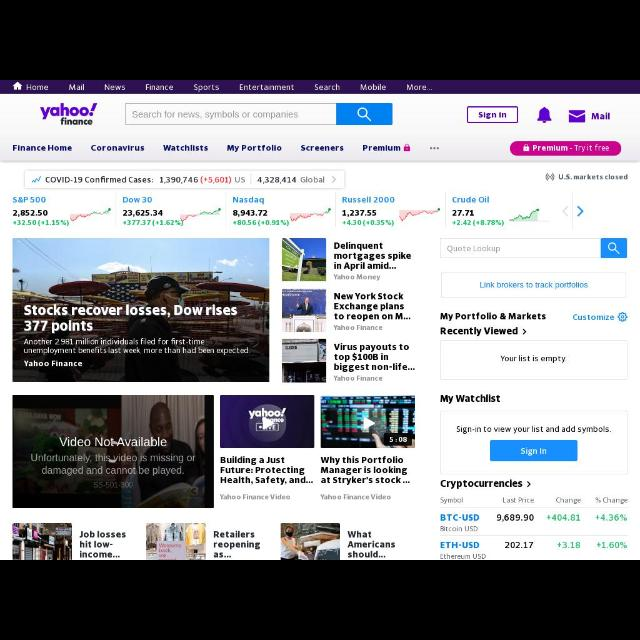backgroundimage: (11, 238, 271, 382)
button: (337, 102, 393, 126), (602, 238, 626, 258)
icon: (535, 106, 553, 126), (355, 107, 375, 123), (568, 109, 586, 123), (608, 242, 620, 254), (617, 312, 627, 322), (576, 205, 584, 217), (13, 82, 23, 90), (545, 173, 555, 181), (31, 175, 41, 183), (563, 206, 569, 218), (404, 142, 411, 152), (523, 144, 529, 152), (429, 146, 439, 150), (522, 328, 526, 336), (332, 176, 336, 184), (527, 481, 531, 487)
image: (12, 394, 214, 508), (320, 395, 416, 449), (220, 395, 314, 449), (281, 522, 341, 560), (11, 522, 71, 558), (147, 523, 206, 559), (282, 288, 326, 332), (282, 239, 326, 281), (282, 340, 326, 382), (40, 102, 100, 126), (509, 200, 551, 223), (399, 206, 441, 224), (290, 207, 332, 223), (180, 208, 222, 222), (71, 208, 111, 222)
input: (126, 104, 337, 126), (440, 238, 602, 260)
multitab: (12, 142, 402, 154), (24, 82, 436, 91)
panel: (440, 410, 628, 476), (440, 340, 630, 380), (25, 170, 345, 190)
text: (23, 304, 238, 334), (25, 338, 252, 356), (220, 456, 314, 486), (321, 456, 412, 484), (334, 242, 411, 272), (334, 343, 416, 371), (334, 292, 411, 320), (132, 110, 298, 120), (78, 530, 128, 560), (212, 530, 262, 558), (346, 530, 396, 558), (456, 426, 612, 434), (479, 281, 589, 291), (440, 478, 522, 489), (46, 176, 154, 184), (439, 313, 546, 321), (440, 327, 518, 337), (12, 142, 74, 154), (160, 176, 246, 184), (500, 354, 568, 364), (226, 142, 282, 154), (532, 144, 610, 152), (440, 395, 500, 405), (256, 176, 326, 184), (220, 494, 292, 501), (320, 494, 392, 501), (558, 173, 628, 180), (123, 220, 183, 228), (89, 145, 147, 153), (24, 360, 82, 368), (162, 143, 208, 153), (299, 144, 345, 154), (233, 219, 289, 227), (240, 83, 294, 91), (447, 245, 501, 253), (342, 220, 394, 228), (452, 220, 504, 228), (362, 144, 402, 154), (13, 220, 69, 227), (572, 314, 616, 322), (342, 197, 396, 203), (440, 514, 480, 522), (440, 541, 480, 549), (477, 110, 508, 120), (496, 514, 534, 522), (452, 196, 490, 204), (333, 376, 382, 382), (333, 325, 382, 331), (12, 209, 48, 217), (333, 274, 381, 280), (520, 446, 548, 456), (123, 210, 163, 217), (233, 197, 264, 206), (594, 497, 628, 505), (342, 209, 376, 217), (502, 496, 534, 504), (596, 514, 628, 522), (548, 514, 580, 522), (232, 210, 268, 217), (504, 541, 534, 549), (440, 526, 478, 532), (146, 84, 174, 92), (13, 195, 45, 202), (590, 111, 612, 121), (359, 83, 386, 91), (194, 84, 220, 92), (558, 541, 582, 549), (440, 554, 486, 558), (597, 542, 627, 548), (122, 197, 152, 203), (406, 84, 434, 90), (314, 84, 340, 90), (555, 498, 581, 504), (452, 210, 474, 217), (26, 84, 50, 90), (441, 498, 464, 504), (104, 84, 126, 90), (70, 84, 84, 90)
textbutton: (440, 272, 628, 300), (489, 440, 578, 462), (510, 141, 622, 157), (464, 105, 520, 125)
toolbar: (0, 94, 638, 160)
